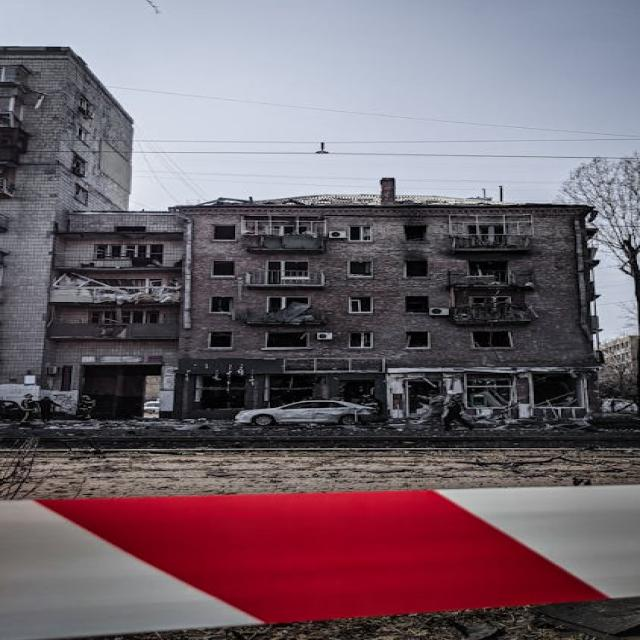building: (0, 44, 136, 415)
